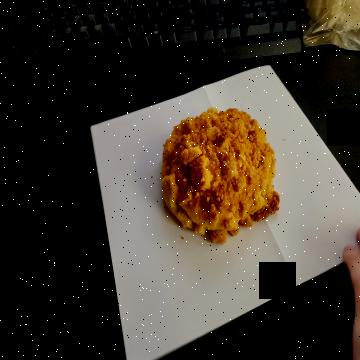soboru_bread: (159, 104, 281, 249)
